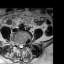CCS_stenosis: (20, 41, 22, 50)
LFS_normal: (24, 39, 26, 47)
LLS_normal: (22, 41, 24, 48)
RFS_normal: (15, 40, 18, 48)
RLS_normal: (18, 40, 20, 49)
